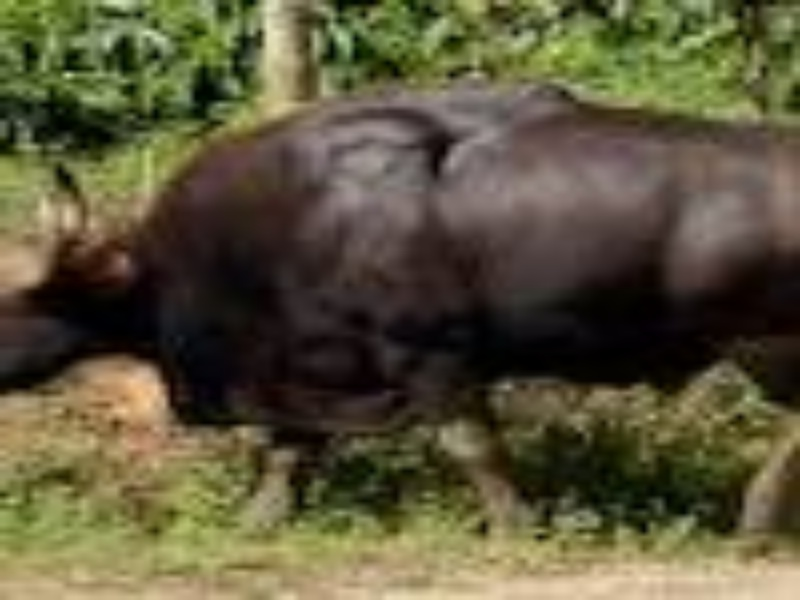buffalo: (29, 91, 795, 500)
